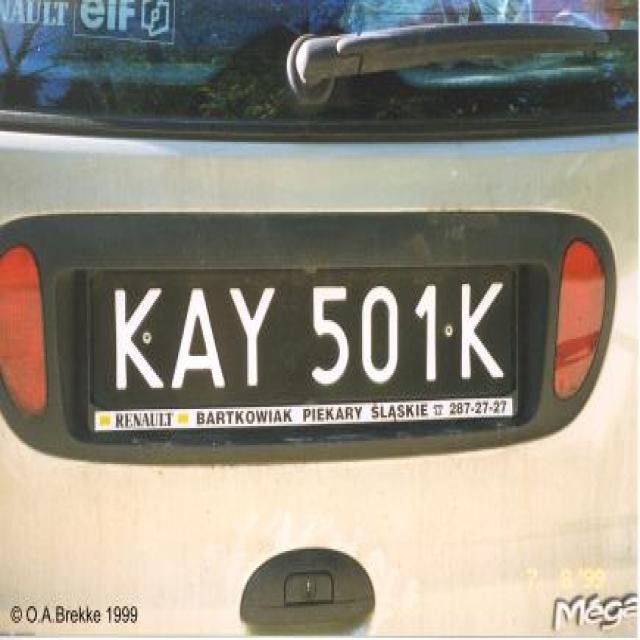pl_license_plate: (88, 269, 515, 396)
